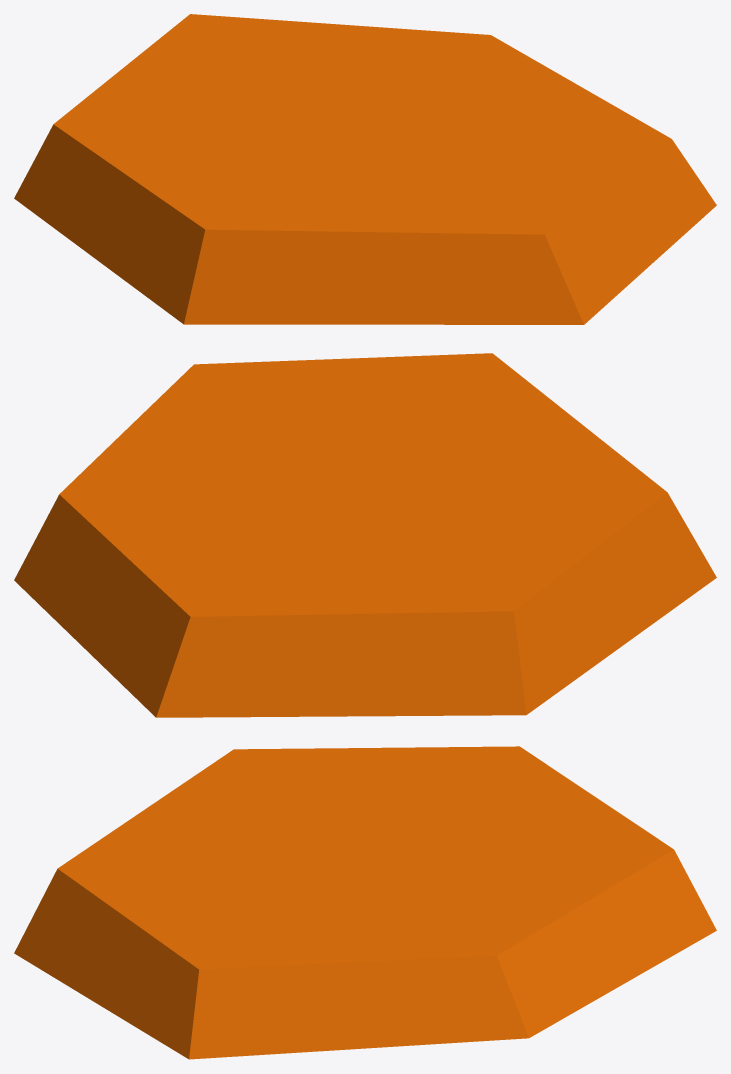
File: rock_003.fbx
3 views of the same model, one above another, from view 1: azimuth 30°, elevation 25°; view 2: azimuth 150°, elevation 25°; view 3: azimuth 270°, elevation 25° (orthographic). The views are drawn at different scales.
Visible parts, largest first — view 1: rock_003; view 2: rock_003; view 3: rock_003.
Boxes of the visible parts, <box> form: rock_003: <box>14,14,716,324</box>; rock_003: <box>14,353,716,717</box>; rock_003: <box>14,746,716,1059</box>.
Size of the model in its own units: 190 by 27.24 by 227.
